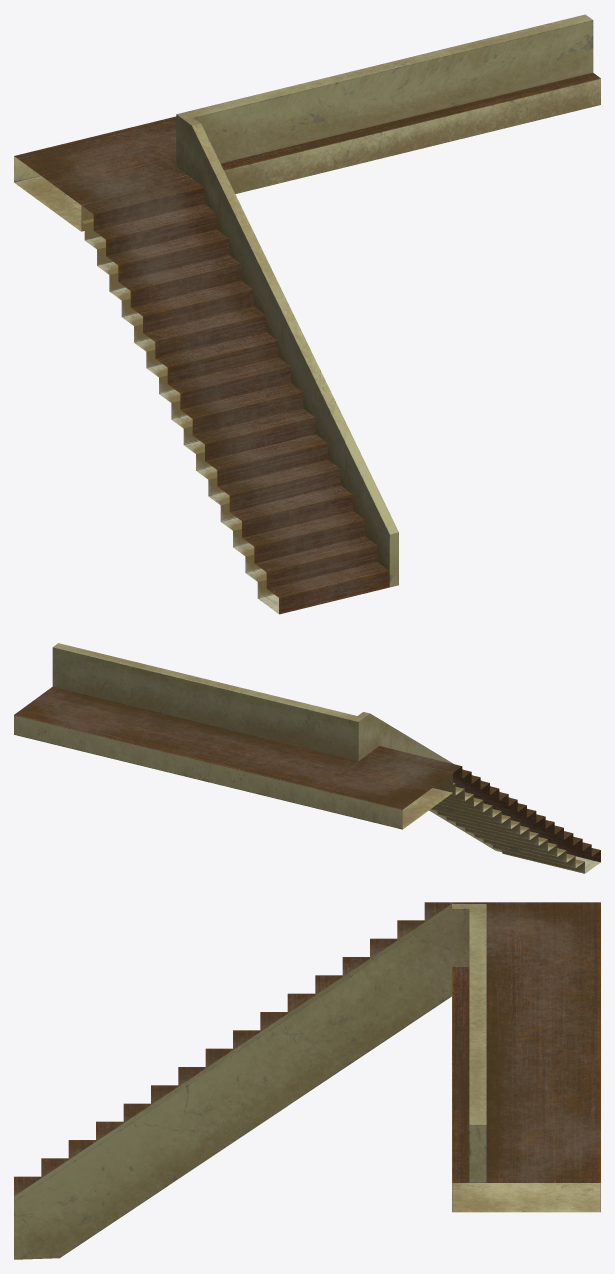
Rendered from Reception_staircase.fbx.
3 views of the same model, one above another, from view 1: azimuth 30°, elevation 25°; view 2: azimuth 150°, elevation 25°; view 3: azimuth 270°, elevation 25° (orthographic). The views are drawn at different scales.
Visible parts, largest first — view 1: Cube.001; view 2: Cube.001; view 3: Cube.001.
Part boxes in pixels (x1,y1,x2,y2): Cube.001: [14, 14, 600, 614]; Cube.001: [14, 643, 600, 873]; Cube.001: [14, 902, 600, 1259].
Bounding box in the file's own units: 939 × 547 × 830.
Materials: 3 (3 with a texture image).
